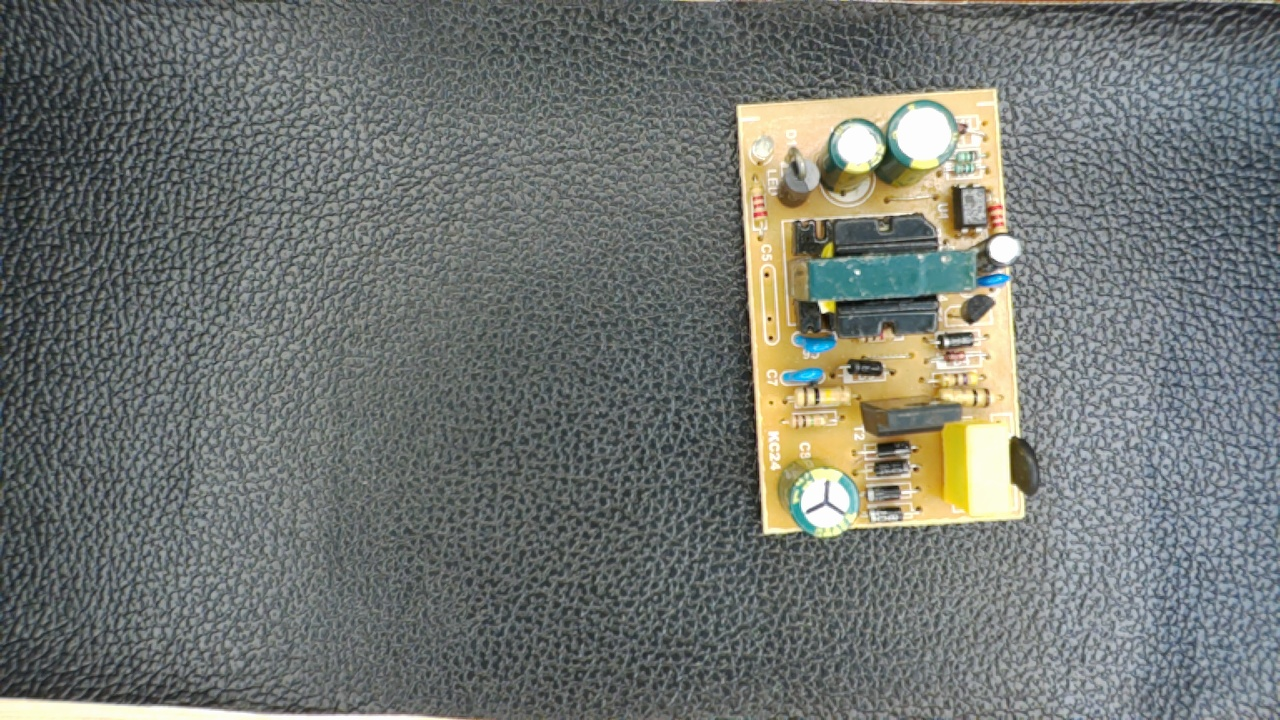fuse: (1001, 426, 1046, 503)
hv_capacitor: (776, 453, 863, 539)
optocoupler: (945, 176, 993, 237)
